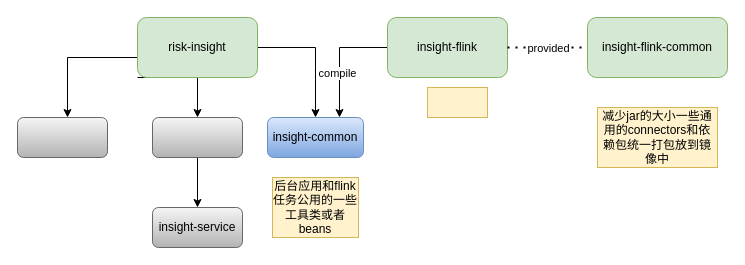
The diagram is 745 pixels wide and 265 high, and some of its shapes have lost their labels. Each missing label, with the centre of its shape:
"insight-api" goes at pixel 62 137.
"insight-web" goes at pixel 197 137.
"各flink作业逻辑代码" goes at pixel 457 102.
